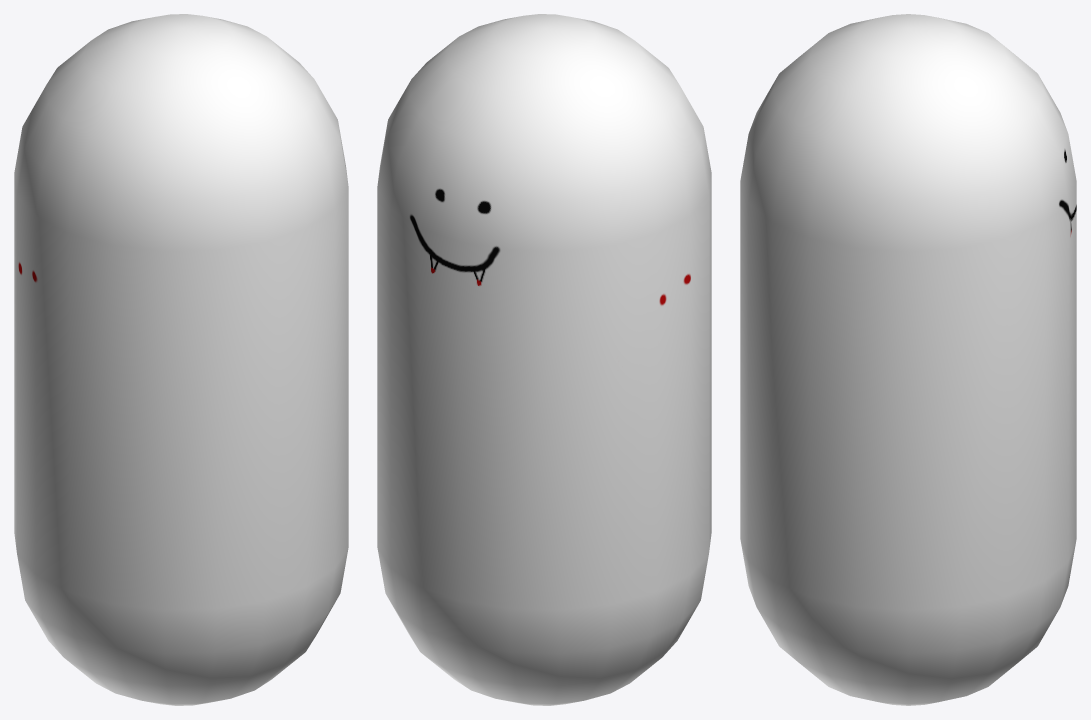
Rendered from vampire.min.glb.
3 renders of one model, left to right at view 1: azimuth 30°, elevation 25°; view 2: azimuth 150°, elevation 25°; view 3: azimuth 270°, elevation 25°, orthographic.
Parts seen in each view (by area): view 1: vampire; view 2: vampire; view 3: vampire.
Part boxes in pixels (<box>): vampire: <box>14,14,348,705</box>; vampire: <box>377,14,711,705</box>; vampire: <box>740,14,1076,705</box>.
Bounding box in the file's own units: 0.4634 × 1.01 × 0.4634.
1 material, 1 textured.
